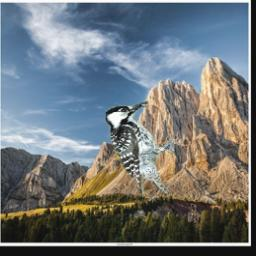Sparrow: (188, 205, 206, 223)
Woodpecker: (106, 100, 175, 196)
